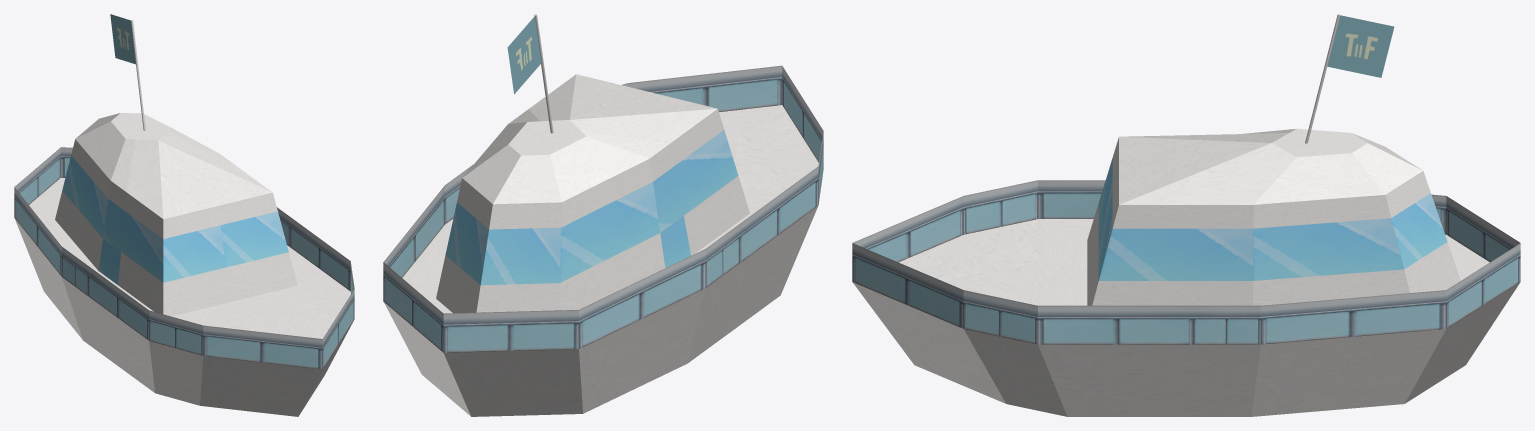
File: boat.glb
3 renders of one model, left to right at view 1: azimuth 30°, elevation 25°; view 2: azimuth 150°, elevation 25°; view 3: azimuth 270°, elevation 25°, orthographic. The views are drawn at different scales.
Parts seen in each view (by area): view 1: Cube, game icon2, Cylinder; view 2: Cube, game icon2; view 3: Cube, game icon2.
Part boxes in pixels (bbox=[...]): Cube: bbox=[14, 113, 354, 416]; game icon2: bbox=[110, 14, 135, 64]; Cylinder: bbox=[131, 20, 145, 130]; Cube: bbox=[383, 65, 823, 416]; game icon2: bbox=[507, 16, 541, 94]; Cube: bbox=[852, 128, 1520, 416]; game icon2: bbox=[1327, 15, 1394, 77].
Size of the model in its own units: 9.7 by 12.63 by 21.82.
Materials: 3 (3 with a texture image).
